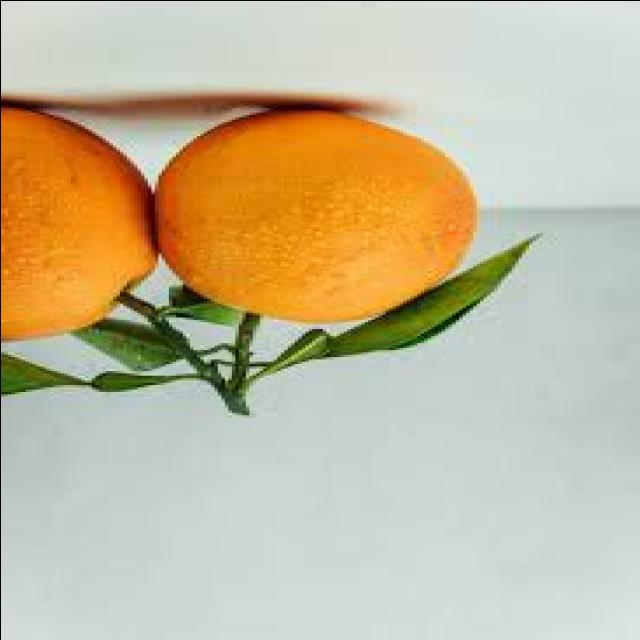orange: (150, 100, 474, 328)
